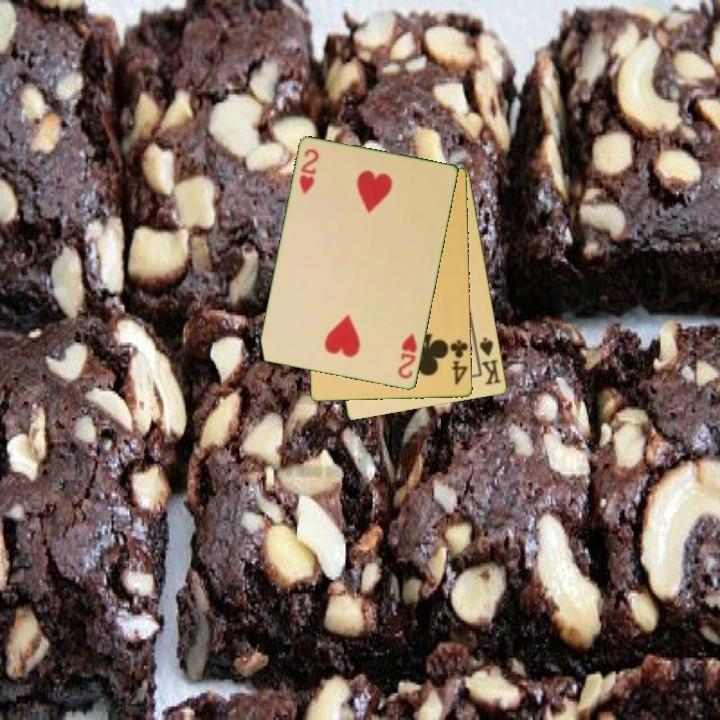2h: (296, 145, 322, 197), (395, 330, 420, 382)
4c: (447, 336, 470, 388)
Ks: (476, 334, 504, 388)
